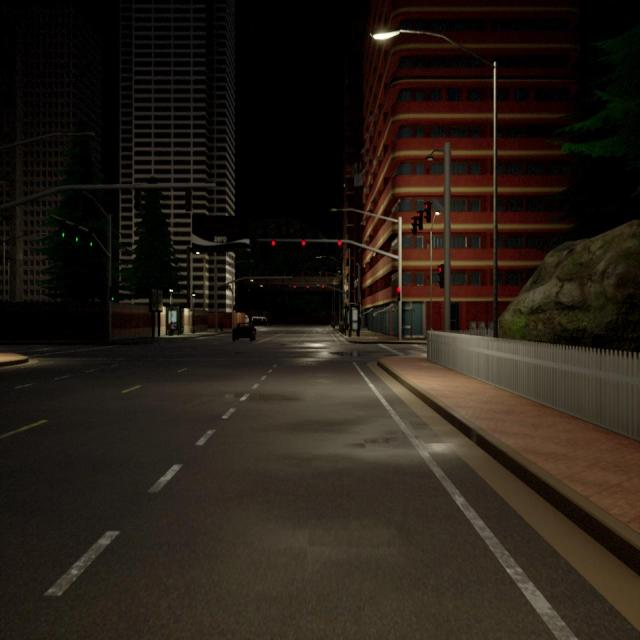Pedestrian: (219, 315, 224, 333)
Vehicle: (232, 323, 256, 342), (251, 317, 268, 326), (244, 314, 250, 325)
traffic_light: (436, 264, 444, 289), (423, 201, 431, 223), (416, 210, 423, 230), (410, 216, 417, 234), (60, 219, 66, 238), (72, 224, 78, 243), (108, 286, 115, 302), (87, 231, 93, 247), (396, 288, 401, 302), (301, 240, 306, 247), (271, 240, 276, 246), (337, 240, 342, 246), (293, 285, 296, 288), (306, 286, 309, 288), (322, 285, 324, 288)
